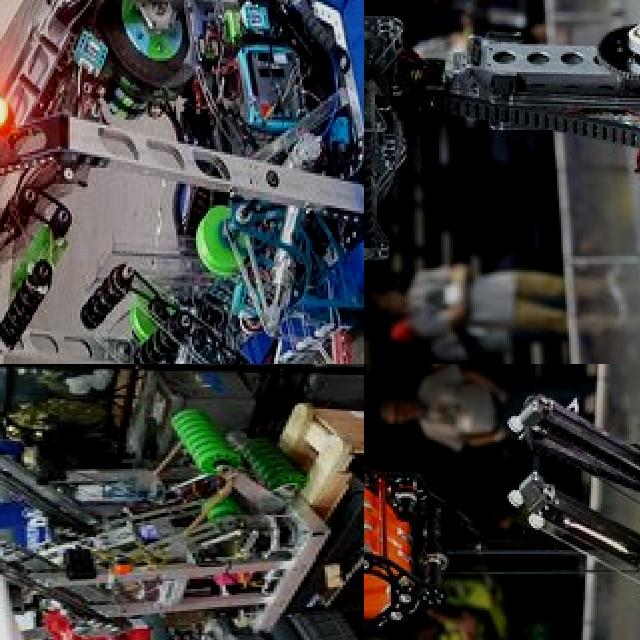FRC-Robots: (0, 0, 364, 364), (364, 0, 640, 364), (364, 364, 640, 640), (0, 455, 364, 640)
